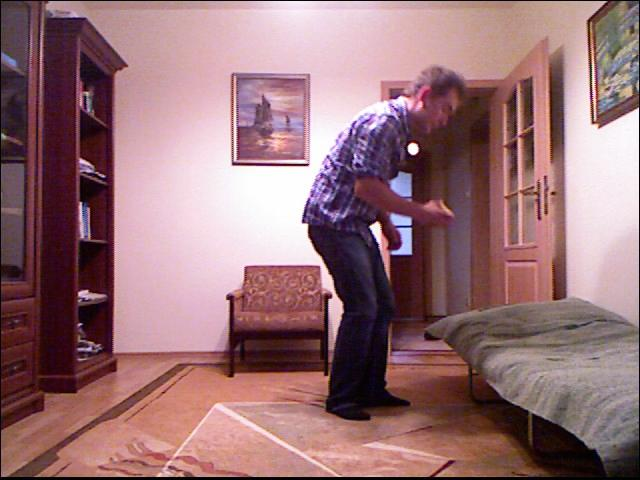bending: (302, 59, 469, 426)
